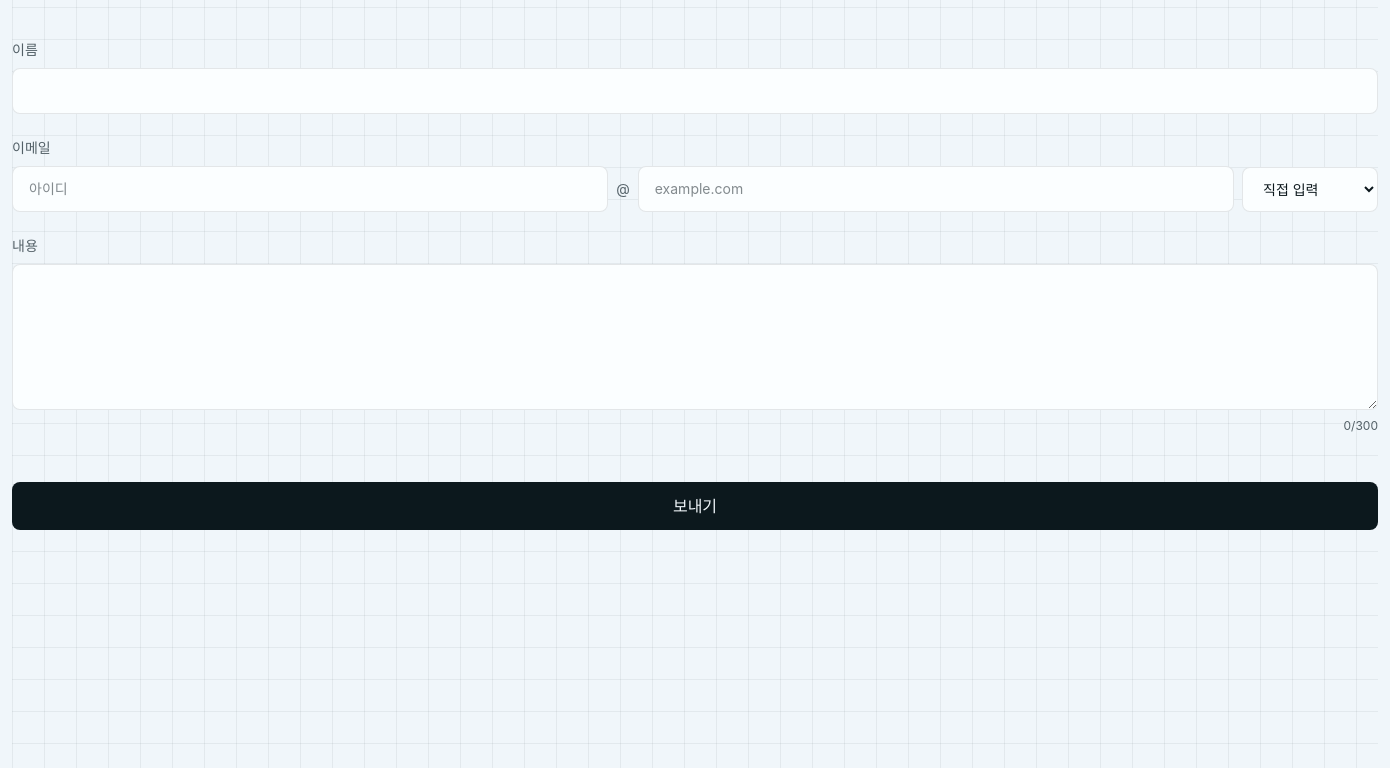
it: ContactForm › blocks submit when the domain is empty (error/boundary: empty input)
The image size is (1390, 768).
Type "최영기" into the field labelled "이름" at (695, 91), box [12,68,1378,114]
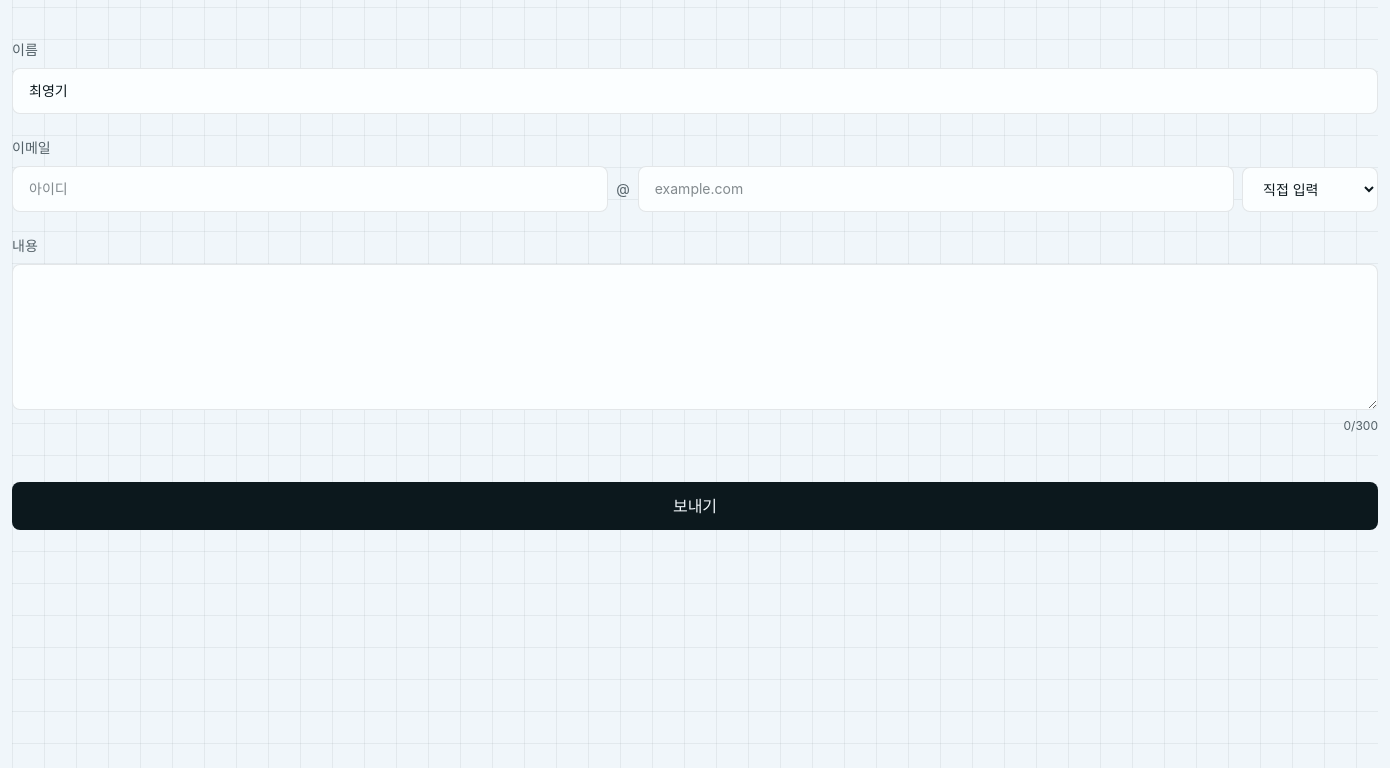
Type "younggi" into the field labelled "이메일" at (310, 189), box [12,166,608,212]
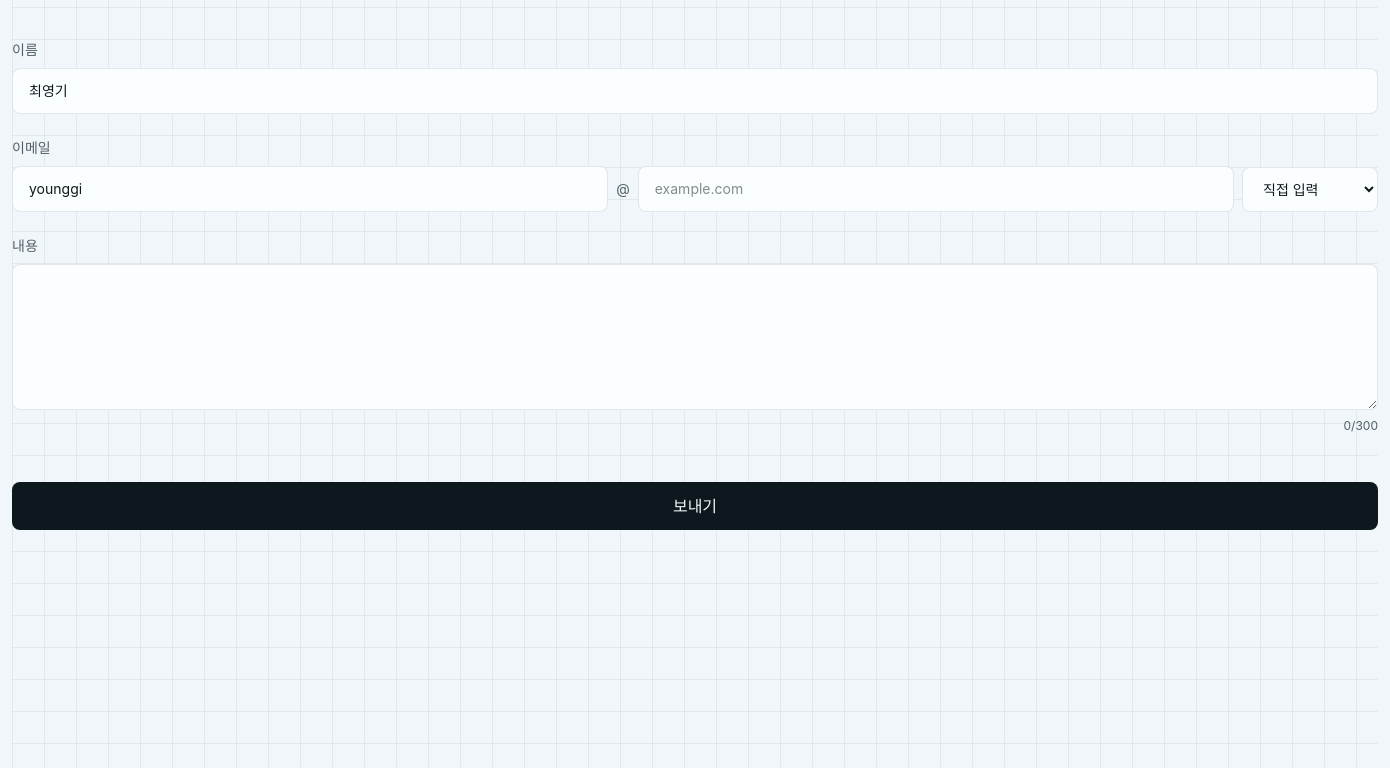
Type "안녕하세요" into the text box labelled "내용" at (695, 337), box [12,264,1378,410]
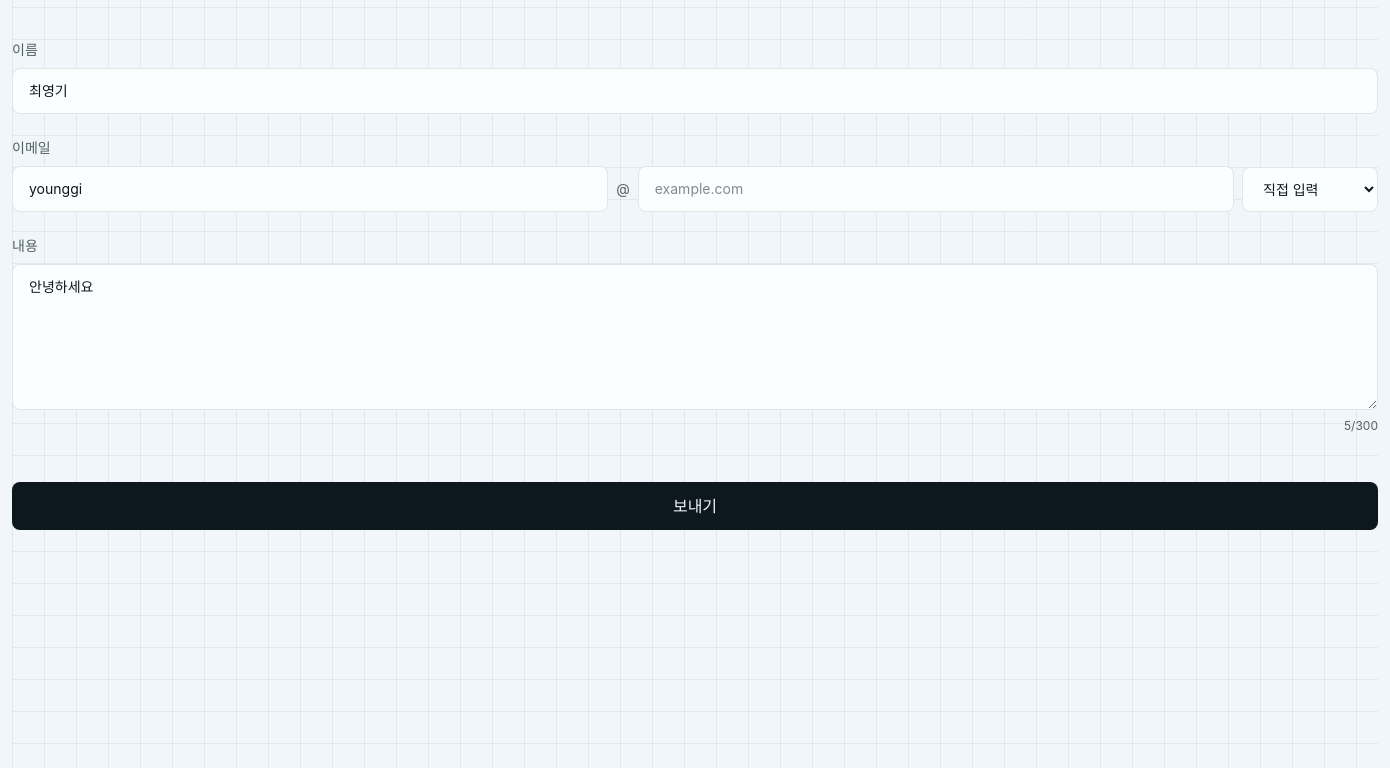
Submit the form labelled "내용"
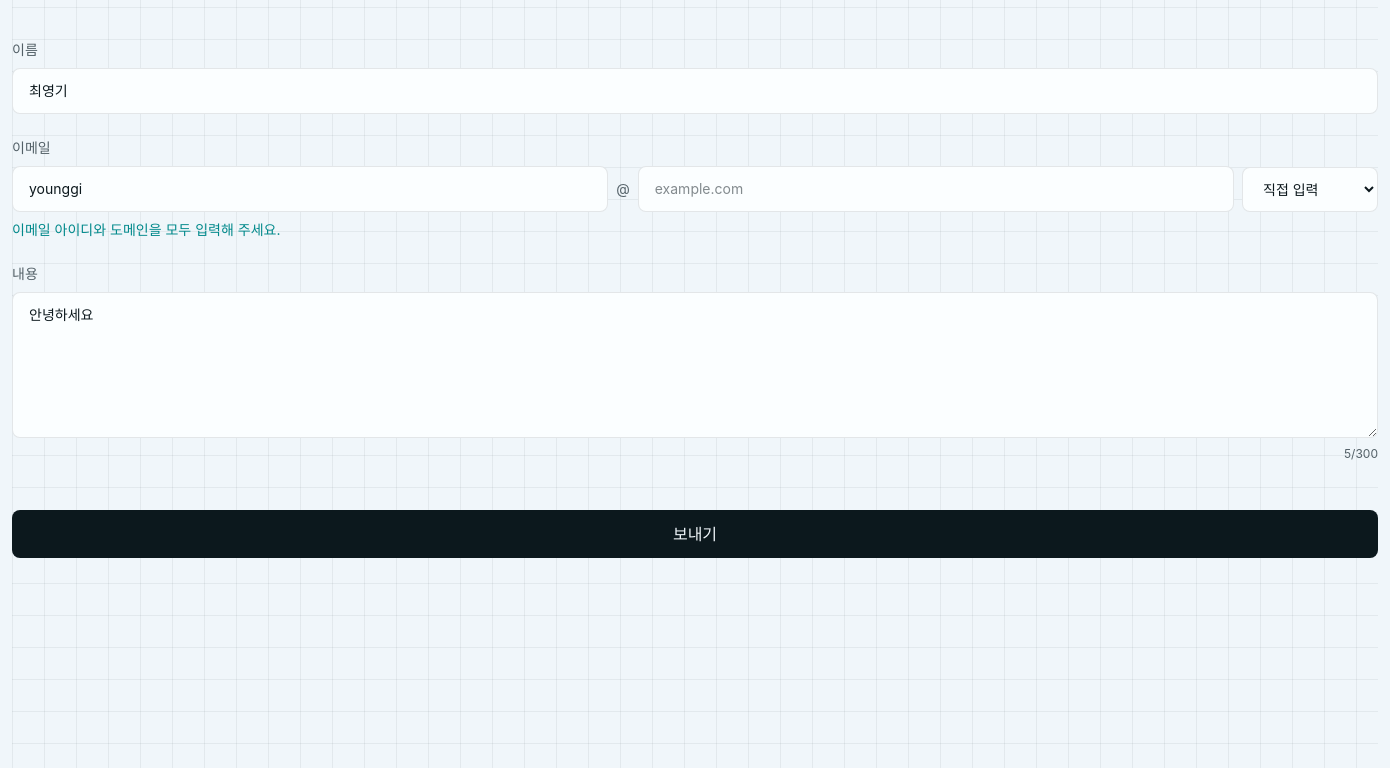
Expected: the text "이메일 아이디와 도메인을 모두 입력해 주세요." is shown, [12,221,280,238]
